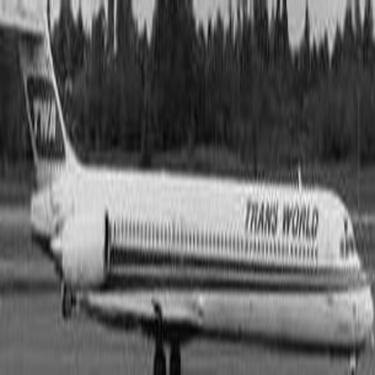airplane: (2, 1, 372, 372)
